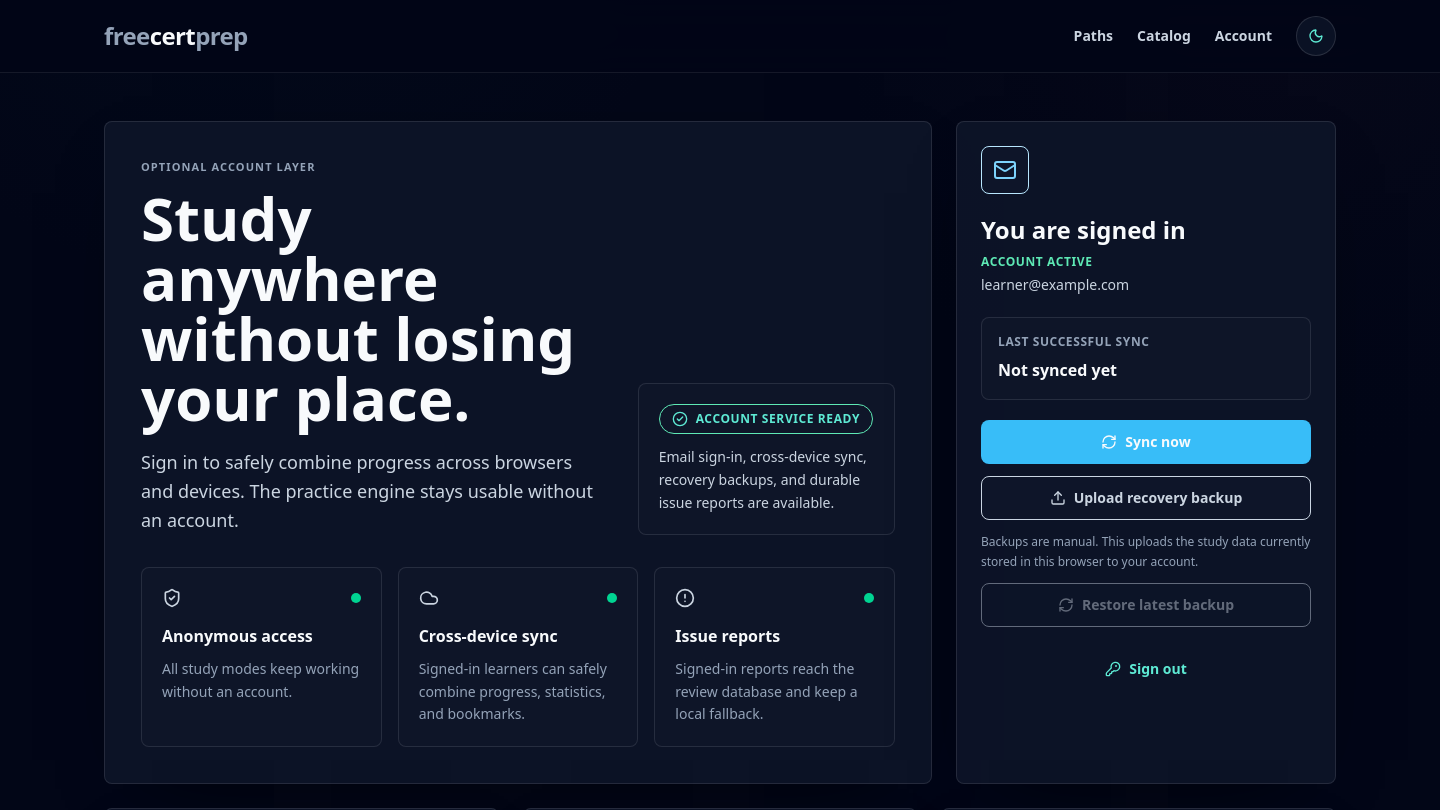
Account authentication › shows the active user and signs out
Expected: the text "learner@example.com" is shown, [981, 275, 1129, 294]
Click the button "Sign out". click: (1146, 669)
box: [981, 647, 1311, 691]
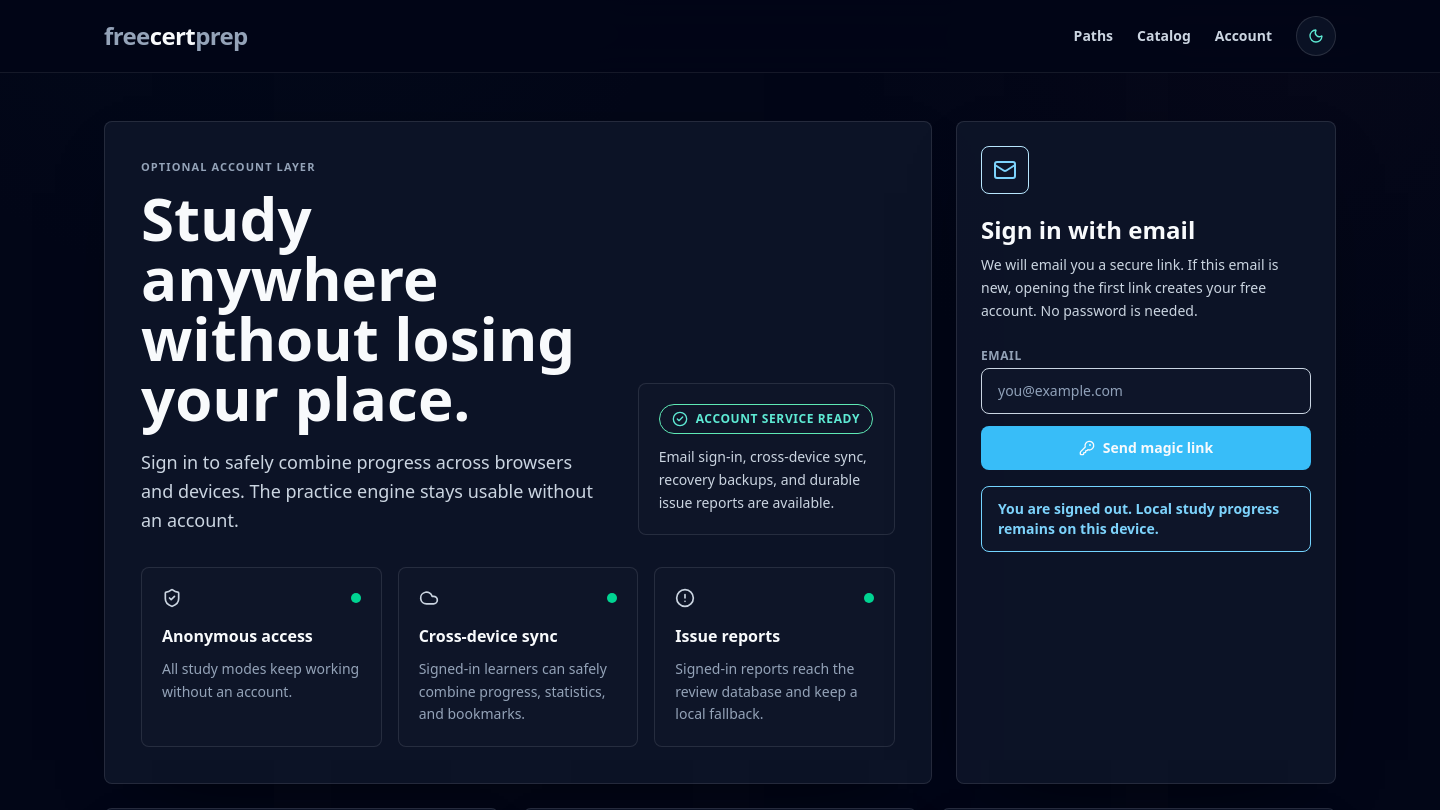
Now the text "You are signed out. Local study progress remains on this device." is shown, box [981, 486, 1311, 552]
